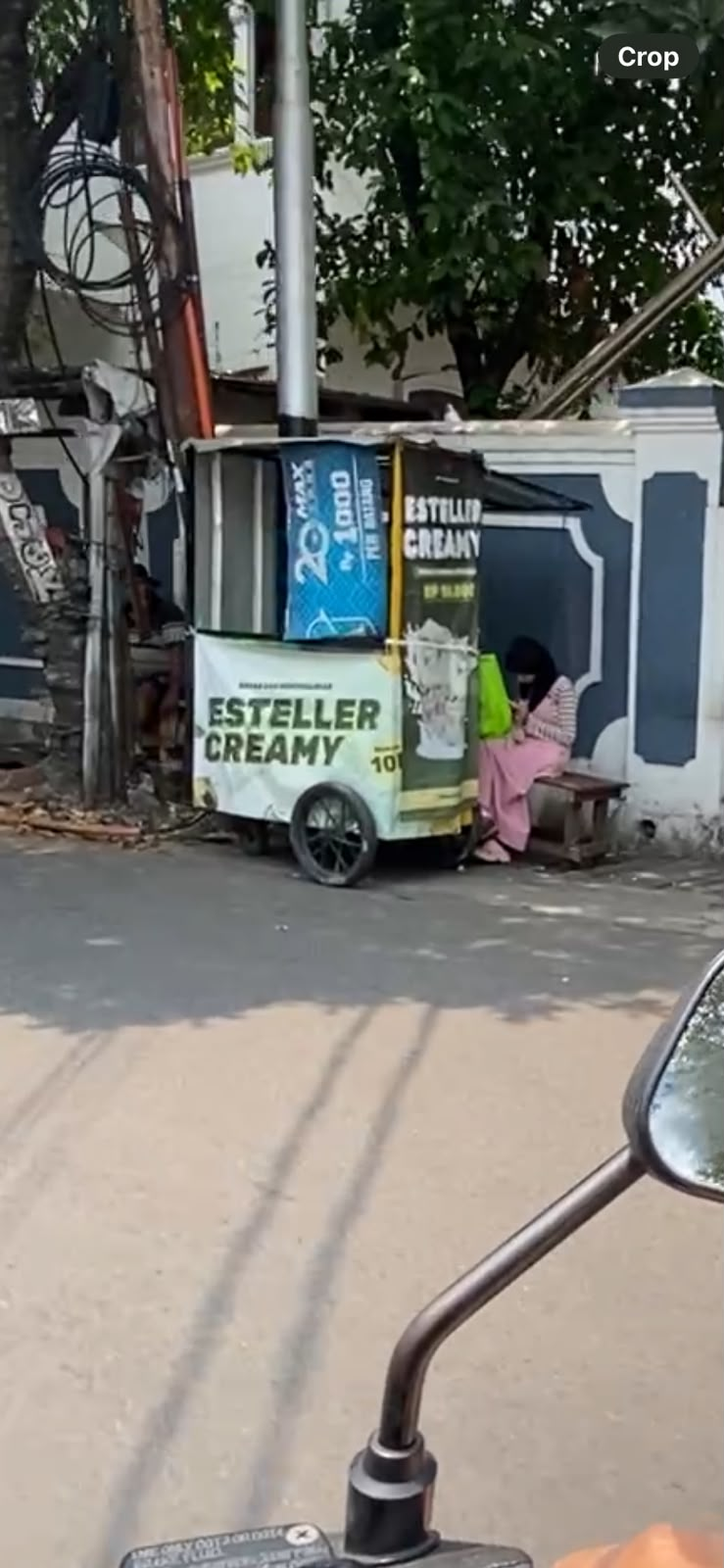gerobak: (192, 435, 514, 887)
